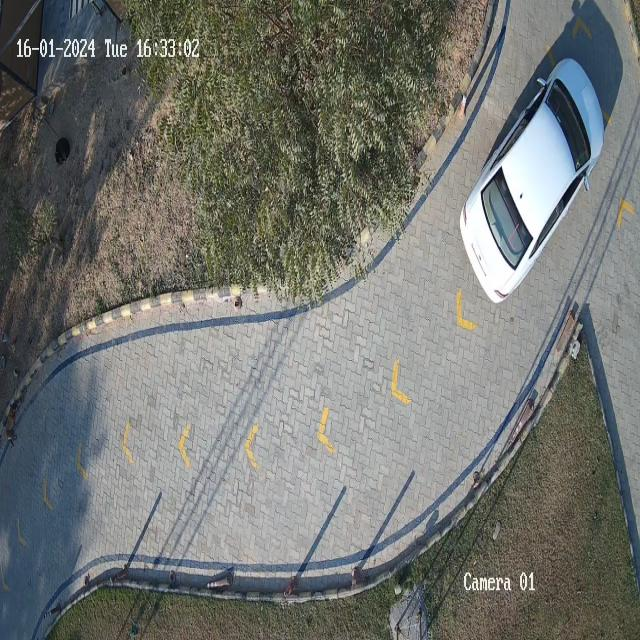car: (460, 58, 604, 302)
